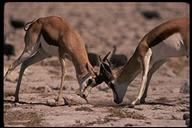antelope: (98, 16, 190, 110), (4, 15, 98, 104)
grass: (5, 108, 42, 125), (103, 109, 148, 121)
